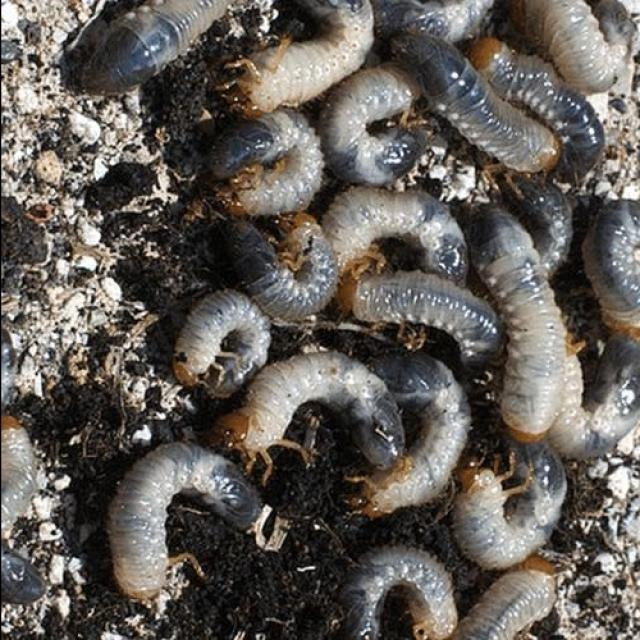grub: (105, 11, 614, 621)
